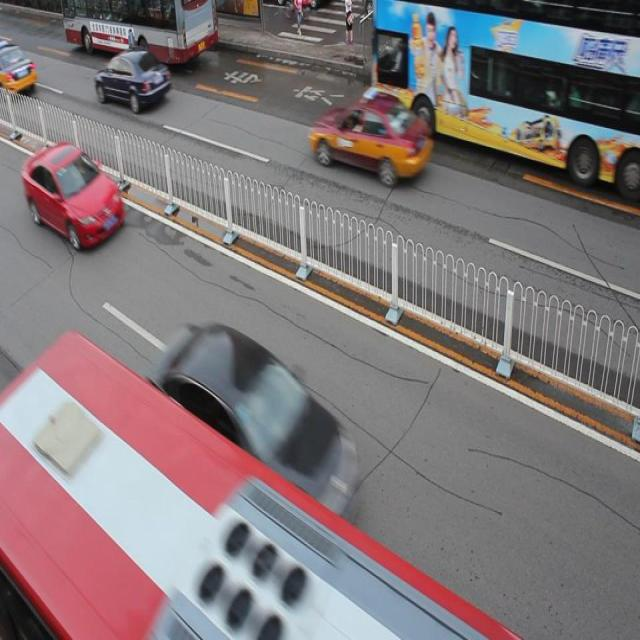car: (164, 319, 353, 521), (310, 88, 431, 186), (22, 138, 123, 247), (94, 44, 170, 112), (1, 42, 36, 97)
van: (1, 328, 518, 640), (371, 1, 640, 190), (61, 1, 217, 63)
